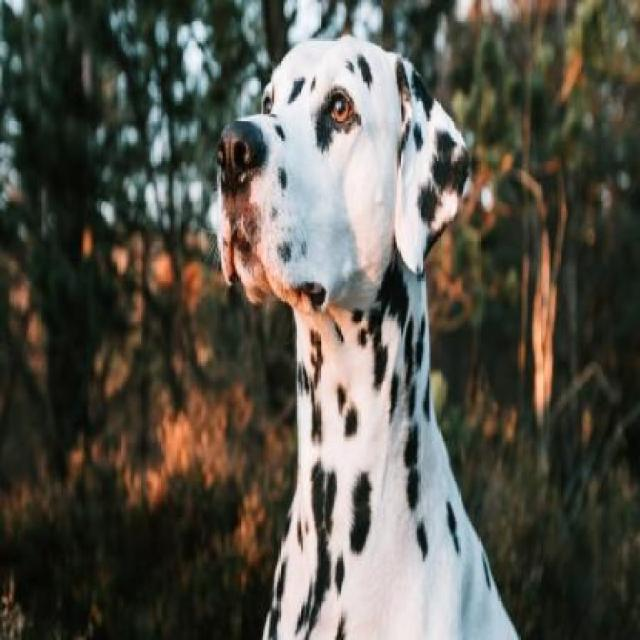animals: (204, 17, 530, 640)
